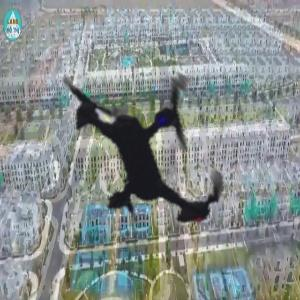drone: (2, 2, 298, 298)
